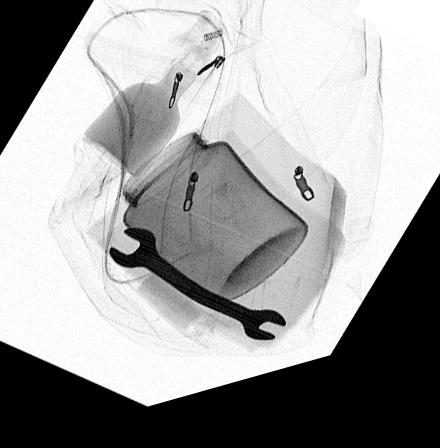Wrench: (104, 231, 287, 354)
